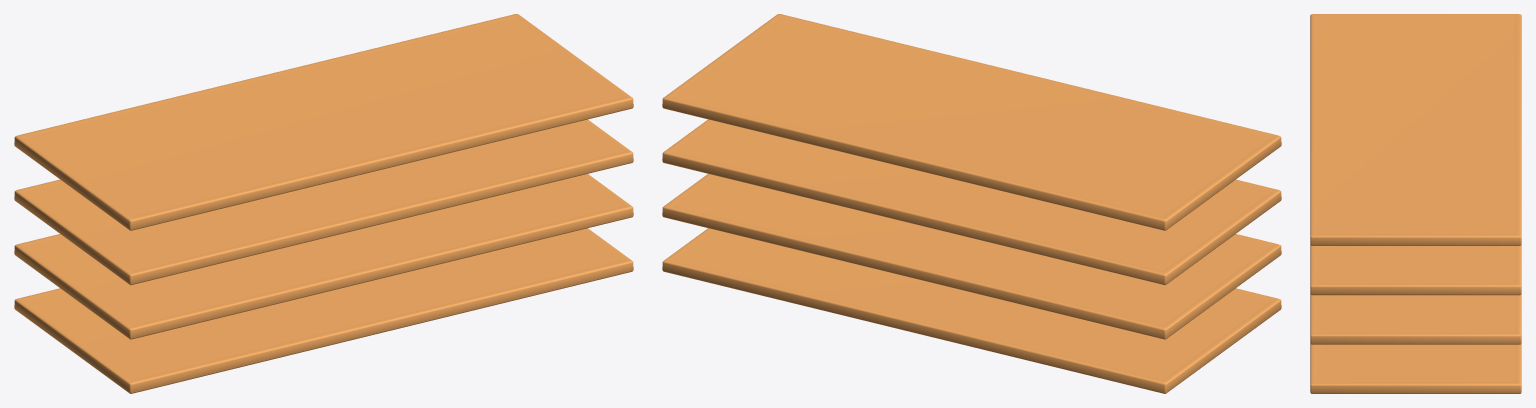
The picture shows the model from 3 angles, left to right: view 1: azimuth 30°, elevation 25°; view 2: azimuth 150°, elevation 25°; view 3: azimuth 270°, elevation 25°; orthographic projection. The views are drawn at different scales.
Parts seen in each view (by area): view 1: Slab_4, Slab_3, Slab_2, Slab_1; view 2: Slab_4, Slab_3, Slab_2, Slab_1; view 3: Slab_4, Slab_1, Slab_2, Slab_3.
Part boxes in pixels (<box>): Slab_4: <box>14,14,633,230</box>; Slab_3: <box>14,119,633,285</box>; Slab_2: <box>14,174,633,339</box>; Slab_1: <box>14,228,633,393</box>; Slab_4: <box>662,14,1281,230</box>; Slab_3: <box>662,119,1281,285</box>; Slab_2: <box>662,174,1281,339</box>; Slab_1: <box>662,228,1281,393</box>; Slab_4: <box>1310,14,1521,245</box>; Slab_1: <box>1310,343,1521,393</box>; Slab_2: <box>1310,294,1521,344</box>; Slab_3: <box>1310,245,1521,295</box>.
Size of the model in its own units: 4 by 1.32 by 1.6.
